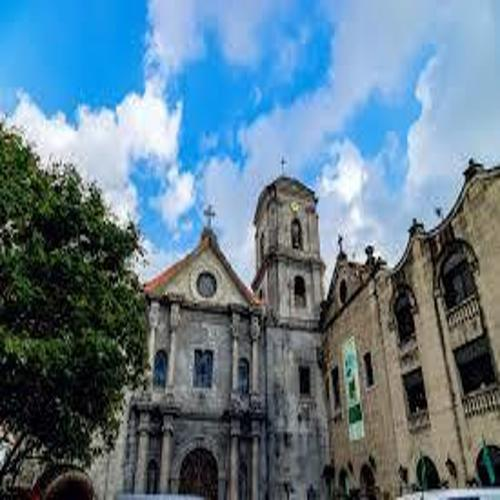San Agustin Church: (116, 144, 336, 497)
